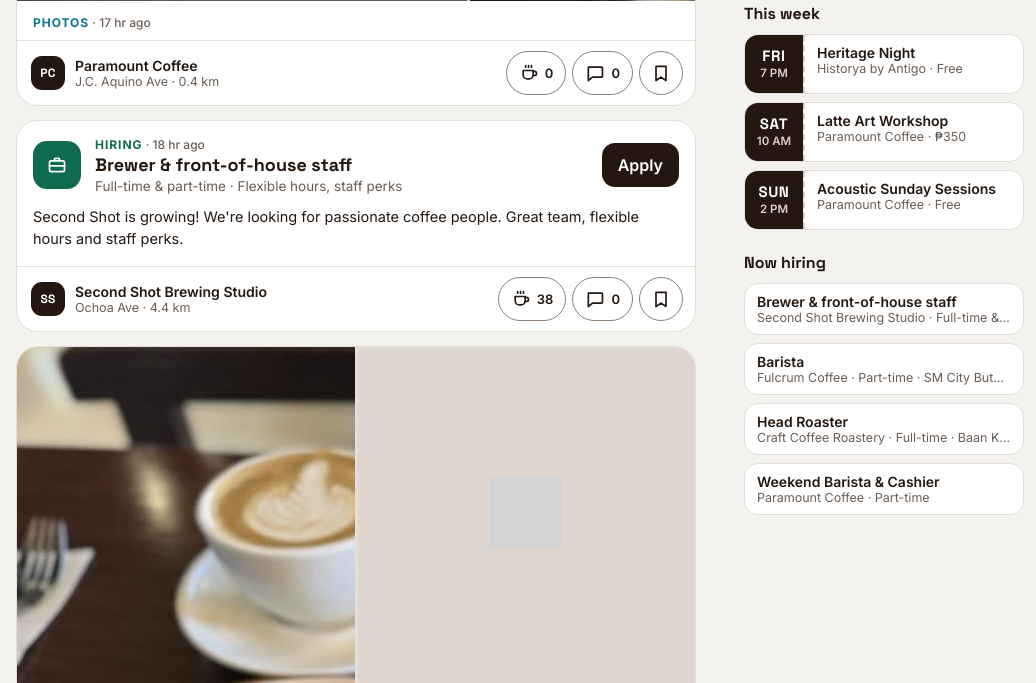
it: Today board: cards › sips and shows sips the old app saved
(page scrolled)
Click the button named "Sip, 38 sips" at (532, 299), box [498, 277, 566, 321]
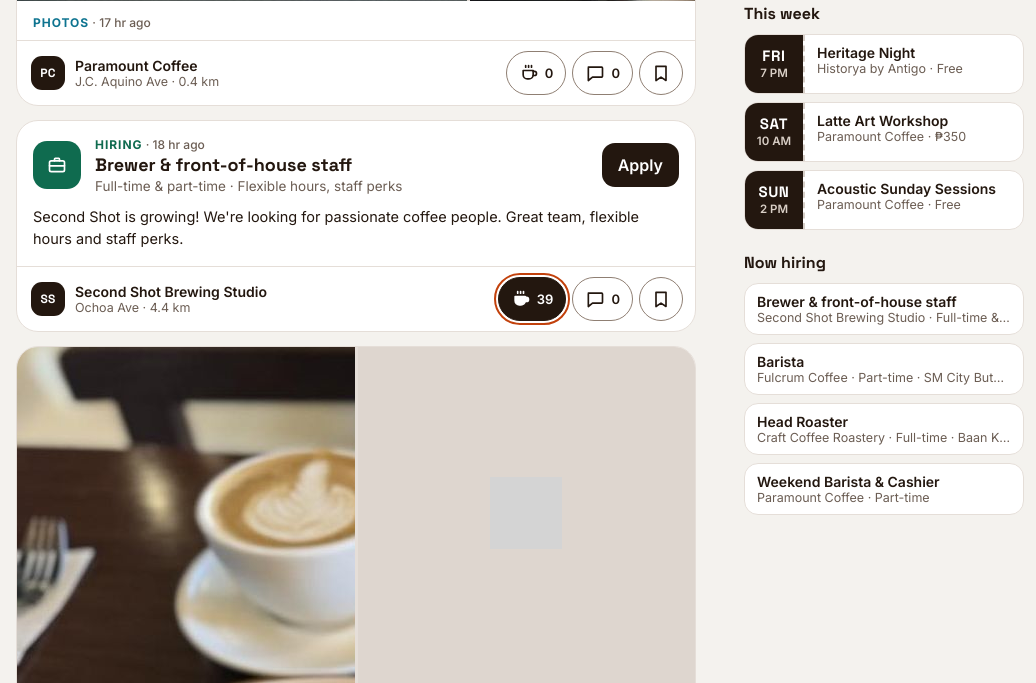
Result: the button named "Sip, 39 sips" is pressed at [498, 277, 566, 321]
